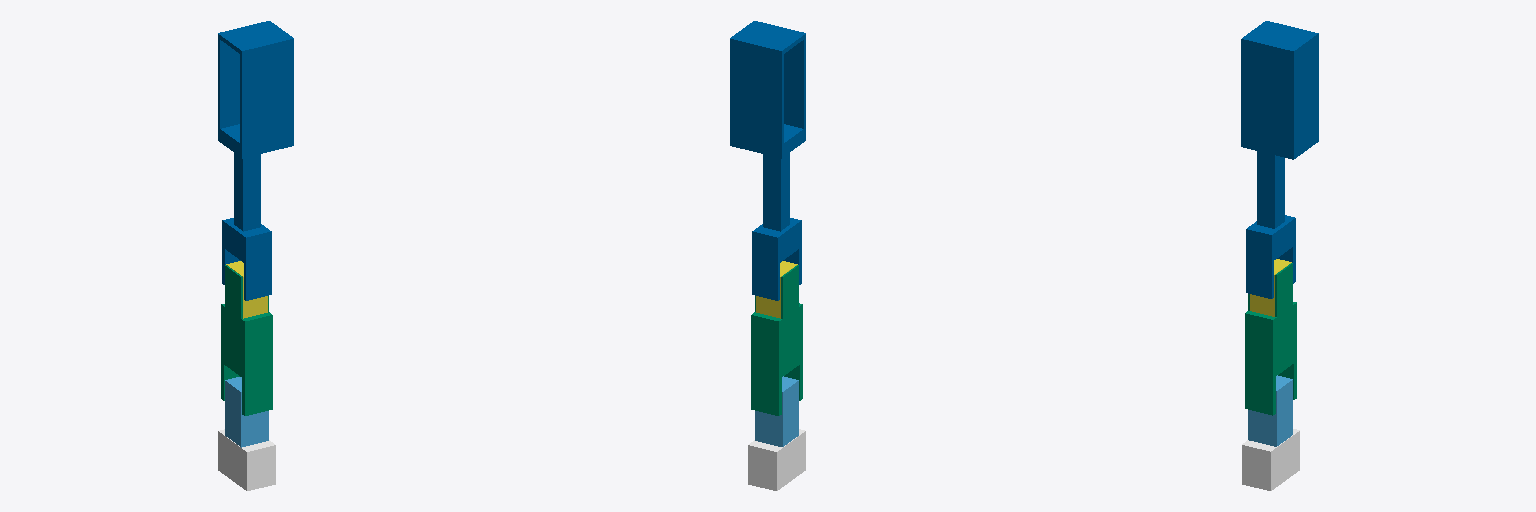
robot.urdf — RobotArm_NoCollision:
<?xml version="1.0" ?>
<robot name="RobotArm_NoCollision">

  <joint name="RobotArm_NoCollision__Joint_Shoulder" type="revolute">
    <parent link="RobotArm_NoCollision__Dynamixel_Big"/>
    <child link="RobotArm_NoCollision__Shoulder"/>
    <origin rpy="0 0 0" xyz="0    0    0.044"/>
    <axis xyz="0 0 1"/>
    <limit effort="0.0" lower="-3.1416" upper="3.1416" velocity="0.0"/>
  </joint>

  <joint name="RobotArm_NoCollision__Joint_LowerArm" type="revolute">
    <parent link="RobotArm_NoCollision__Shoulder"/>
    <child link="RobotArm_NoCollision__LowerArm"/>
    <origin rpy="0 0 0" xyz="0     0     0.0506"/>
    <axis xyz="0 1 0"/>
    <limit effort="0.0" lower="-2.1817" upper="2.1817" velocity="0.0"/>
  </joint>

  <joint name="RobotArm_NoCollision__Joint_Dynamixel" type="fixed">
    <parent link="RobotArm_NoCollision__LowerArm"/>
    <child link="RobotArm_NoCollision__Dynamixel_Small"/>
    <origin rpy="0 0 0" xyz="0    0    0.093"/>
    <axis xyz="0 0 1"/>
    <limit effort="0.0" lower="-0.0" upper="0.0" velocity="0.0"/>
  </joint>

  <joint name="RobotArm_NoCollision__Joint_UpperArm" type="revolute">
    <parent link="RobotArm_NoCollision__Dynamixel_Small"/>
    <child link="RobotArm_NoCollision__UpperArm"/>
    <origin rpy="0     0     1.5708" xyz="0     0     0.0356"/>
    <axis xyz="1 0 0"/>
    <limit effort="0.0" lower="-2.1817" upper="2.1817" velocity="0.0"/>
  </joint>

  <link name="RobotArm_NoCollision__Dynamixel_Big">
    <inertial>
      <mass value="0.165"/>
      <origin rpy="0 0 0" xyz="0 0 0"/>
      <inertia ixx="0.00007" ixy="0.0" ixz="0.0" iyy="0.000064" iyz="0.0" izz="0.000043"/>
    </inertial>
    <collision name="RobotArm_NoCollision__Dynamixel_Big_collision">
      <origin rpy="1.57 0   0" xyz="0    0    0.022"/>
      <geometry>
        <box size="0.034 0.044 0.059"/>
      </geometry>
    </collision>
    <visual name="RobotArm_NoCollision__Dynamixel_Big_Visual">
      <origin rpy="1.57 0   0" xyz="0    0    0.022"/>
      <geometry>
        <box size="0.034 0.044 0.059"/>
      </geometry>
      <material name="Black">
        <color rgba ="1 1 1 1"/>
      </material>
    </visual>
  </link>

  <link name="RobotArm_NoCollision__Shoulder">
    <inertial>
      <mass value="0.092"/>
      <origin rpy="0 0 0" xyz="0     0     0.0383"/>
      <inertia ixx="0.000032" ixy="0.0" ixz="0.0" iyy="0.000037" iyz="0.0" izz="0.00002"/>
    </inertial>
    <visual name="RobotArm_NoCollision__Shoulder_Visual">
      <origin rpy="0 0 0" xyz="0 0 0"/>
      <geometry>
        <mesh filename="package://robot_arm/stl/Arm_Shoulder_Simple.stl" scale="0.001 0.001 0.001"/>
      </geometry>
    </visual>
  </link>

  <link name="RobotArm_NoCollision__LowerArm">
    <inertial>
      <mass value="0.0376"/>
      <origin rpy="0 0 0" xyz="0   0   0.07"/>
      <inertia ixx="0.000055" ixy="0.0" ixz="0.0" iyy="0.000047" iyz="0.0" izz="0.000015"/>
    </inertial>
    <visual name="RobotArm_NoCollision__LowerArm_Visual">
      <origin rpy="0 0 0" xyz="0     0    -0.013"/>
      <geometry>
        <mesh filename="package://robot_arm/stl/Arm_LowerArm_Simple.stl" scale="0.001 0.001 0.001"/>
      </geometry>
    </visual>
  </link>

  <link name="RobotArm_NoCollision__Dynamixel_Small">
    <inertial>
      <mass value="0.082"/>
      <origin rpy="0 0 0" xyz="0 0 0"/>
      <inertia ixx="0.000023" ixy="0.0" ixz="0.0" iyy="0.000021" iyz="0.0" izz="0.000014"/>
    </inertial>
    <visual name="RobotArm_NoCollision__Dynamixel_Small_Visual">
      <origin rpy="0 0 0" xyz="0     0     0.0235"/>
      <geometry>
        <box size="0.029 0.034 0.047"/>
      </geometry>
    </visual>
  </link>

  <link name="RobotArm_NoCollision__UpperArm">
    <inertial>
      <mass value="0.0757"/>
      <origin rpy="0 0 0" xyz="0   -0.01  0.14"/>
      <inertia ixx="0.00025" ixy="0.0" ixz="0.0" iyy="0.00025" iyz="0.0" izz="0.000083"/>
    </inertial>
    <collision name="RobotArm_NoCollision__UpperArm_collision">
      <origin rpy="0 0 0" xyz="0     0    -0.013"/>
      <geometry>
        <mesh filename="package://robot_arm/stl/Arm_UpperArm_Simple.stl" scale="0.001 0.001 0.001"/>
      </geometry>
    </collision>
    <visual name="RobotArm_NoCollision__UpperArm_Visual">
      <origin rpy="0 0 0" xyz="0     0    -0.013"/>
      <geometry>
        <mesh filename="package://robot_arm/stl/Arm_UpperArm_Simple.stl" scale="0.001 0.001 0.001"/>
      </geometry>
    </visual>
  </link>

</robot>

--- Render facts (derived) ---
Views: 3 orthographic renders of the robot side by side, from view 1: azimuth 30°, elevation 25°; view 2: azimuth 150°, elevation 25°; view 3: azimuth 330°, elevation 25°.
Robot: RobotArm_NoCollision — 5 links, 4 joints (3 revolute, 1 fixed); root link RobotArm_NoCollision__Dynamixel_Big; default pose: every joint at zero.
Links seen in each view (by area): view 1: RobotArm_NoCollision__UpperArm, RobotArm_NoCollision__LowerArm, RobotArm_NoCollision__Dynamixel_Big, RobotArm_NoCollision__Shoulder, RobotArm_NoCollision__Dynamixel_Small; view 2: RobotArm_NoCollision__UpperArm, RobotArm_NoCollision__LowerArm, RobotArm_NoCollision__Dynamixel_Big, RobotArm_NoCollision__Shoulder, RobotArm_NoCollision__Dynamixel_Small; view 3: RobotArm_NoCollision__UpperArm, RobotArm_NoCollision__LowerArm, RobotArm_NoCollision__Dynamixel_Big, RobotArm_NoCollision__Shoulder, RobotArm_NoCollision__Dynamixel_Small.
Boxes of the visible links, <box> form: RobotArm_NoCollision__UpperArm: <box>218,21,293,300</box>; RobotArm_NoCollision__LowerArm: <box>221,265,272,415</box>; RobotArm_NoCollision__Dynamixel_Big: <box>218,429,275,490</box>; RobotArm_NoCollision__Shoulder: <box>225,377,268,447</box>; RobotArm_NoCollision__Dynamixel_Small: <box>226,261,267,318</box>; RobotArm_NoCollision__UpperArm: <box>730,21,805,300</box>; RobotArm_NoCollision__LowerArm: <box>751,265,802,415</box>; RobotArm_NoCollision__Dynamixel_Big: <box>748,429,805,490</box>; RobotArm_NoCollision__Shoulder: <box>755,376,798,446</box>; RobotArm_NoCollision__Dynamixel_Small: <box>756,261,797,318</box>; RobotArm_NoCollision__UpperArm: <box>1241,21,1318,298</box>; RobotArm_NoCollision__LowerArm: <box>1245,263,1296,415</box>; RobotArm_NoCollision__Dynamixel_Big: <box>1242,429,1299,490</box>; RobotArm_NoCollision__Shoulder: <box>1248,375,1292,446</box>; RobotArm_NoCollision__Dynamixel_Small: <box>1250,259,1291,316</box>.
Size in the robot's own frame: 0.061 by 0.059 by 0.4912 metres.
3 mesh visuals loaded from 3 distinct referenced files (3 ASCII STL).